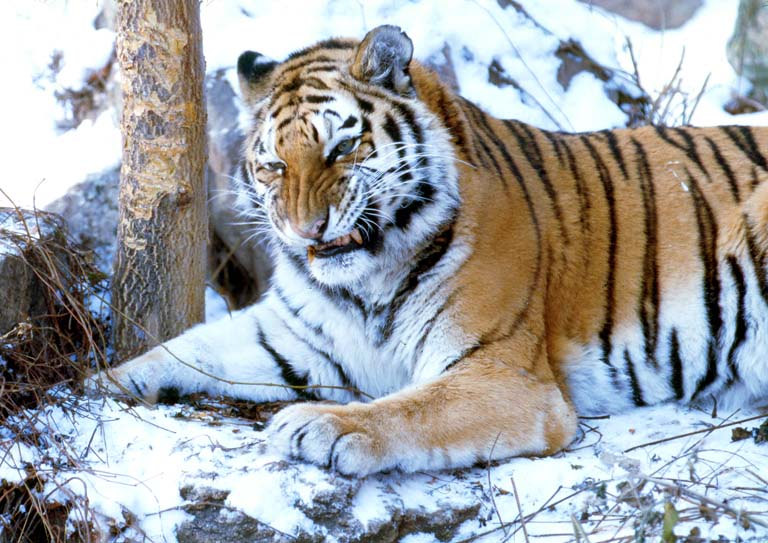Tigre: (226, 33, 768, 431)
